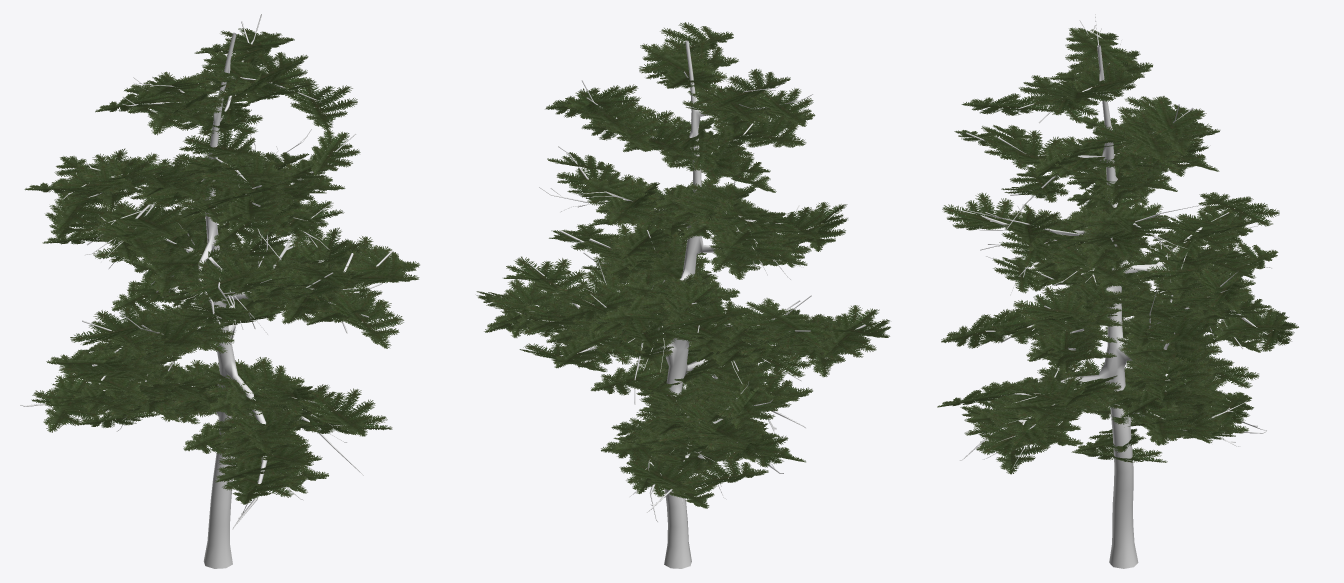
Rendered from Pine2.fbx.
3 views of the same model, side by side, from view 1: azimuth 30°, elevation 25°; view 2: azimuth 150°, elevation 25°; view 3: azimuth 270°, elevation 25° (orthographic). The views are drawn at different scales.
Parts seen in each view (by area): view 1: tree.005|pngtree-natural-pine-tree-branch-close-up-element-p (×84), tree.005; view 2: tree.005|pngtree-natural-pine-tree-branch-close-up-element-p (×73), tree.005; view 3: tree.005|pngtree-natural-pine-tree-branch-close-up-element-p (×74), tree.005.
Part boxes in pixels (x1,y1,x2,y2): tree.005|pngtree-natural-pine-tree-branch-close-up-element-p (×84): (43, 28, 419, 504); tree.005: (20, 14, 393, 568); tree.005|pngtree-natural-pine-tree-branch-close-up-element-p (×73): (489, 22, 890, 508); tree.005: (505, 40, 866, 568); tree.005|pngtree-natural-pine-tree-branch-close-up-element-p (×74): (937, 27, 1298, 474); tree.005: (959, 14, 1271, 568).
Bounding box in the file's own units: 1633 × 2062 × 1450.
